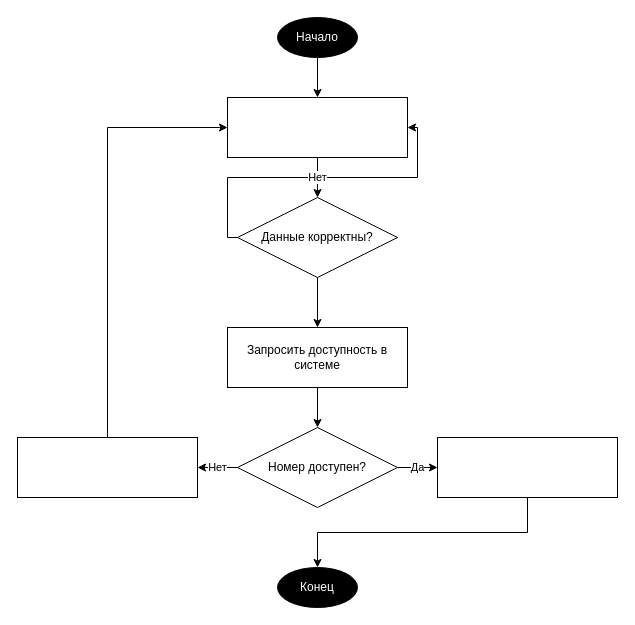
Some shapes in this 635 by 625 pixel diagram are drawn without their labels. The centre of each missing label's shape, as x and y in pixels:
"Показать варианты номеров" goes at (x=527, y=467).
"Получить параметры запроса (даты, гости, тип)" goes at (x=317, y=127).
"Предложить альтернативные даты" goes at (x=107, y=467).
